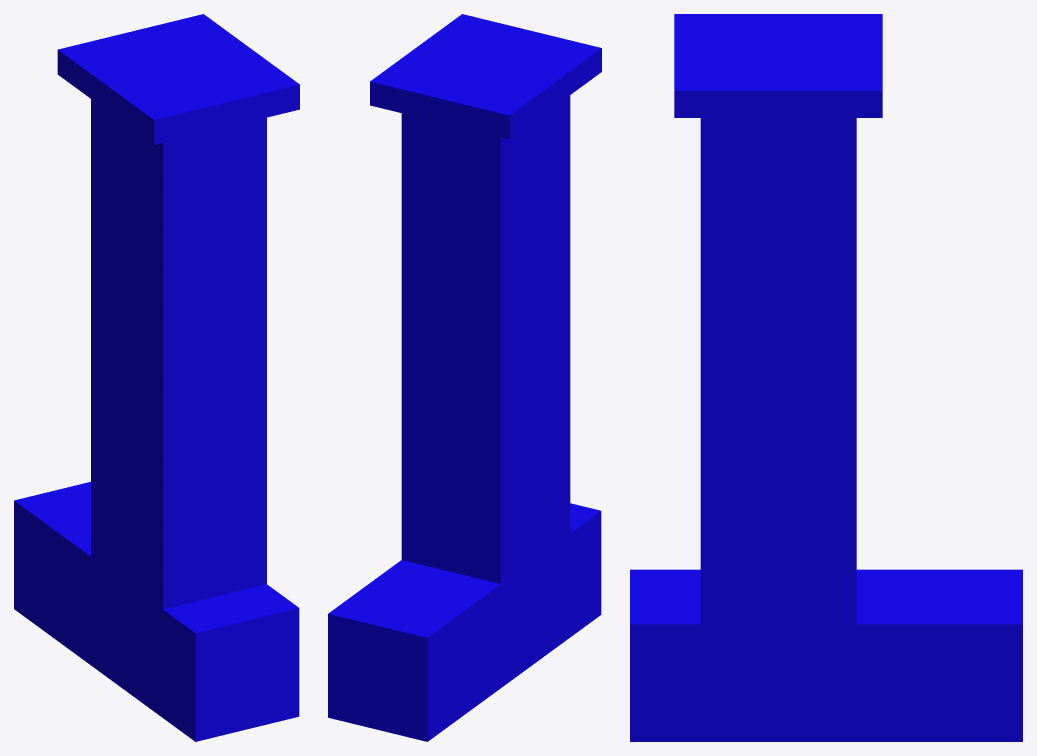
File: SM_pin_hole.glb
3 renders of one model, left to right at view 1: azimuth 30°, elevation 25°; view 2: azimuth 150°, elevation 25°; view 3: azimuth 270°, elevation 25°, orthographic. The views are drawn at different scales.
Visible parts, largest first — view 1: SM_pin_hole; view 2: SM_pin_hole; view 3: SM_pin_hole.
Boxes of the visible parts, x1,y1,x2,y2 form: SM_pin_hole: (14, 14, 299, 741); SM_pin_hole: (328, 14, 601, 741); SM_pin_hole: (630, 14, 1022, 741).
Size of the model in its own units: 0.4639 by 1.86 by 1.
